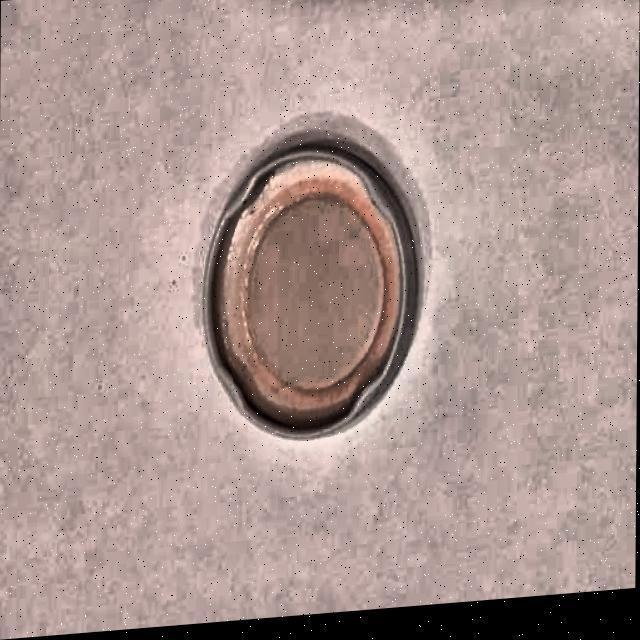metal: (201, 117, 424, 451)
